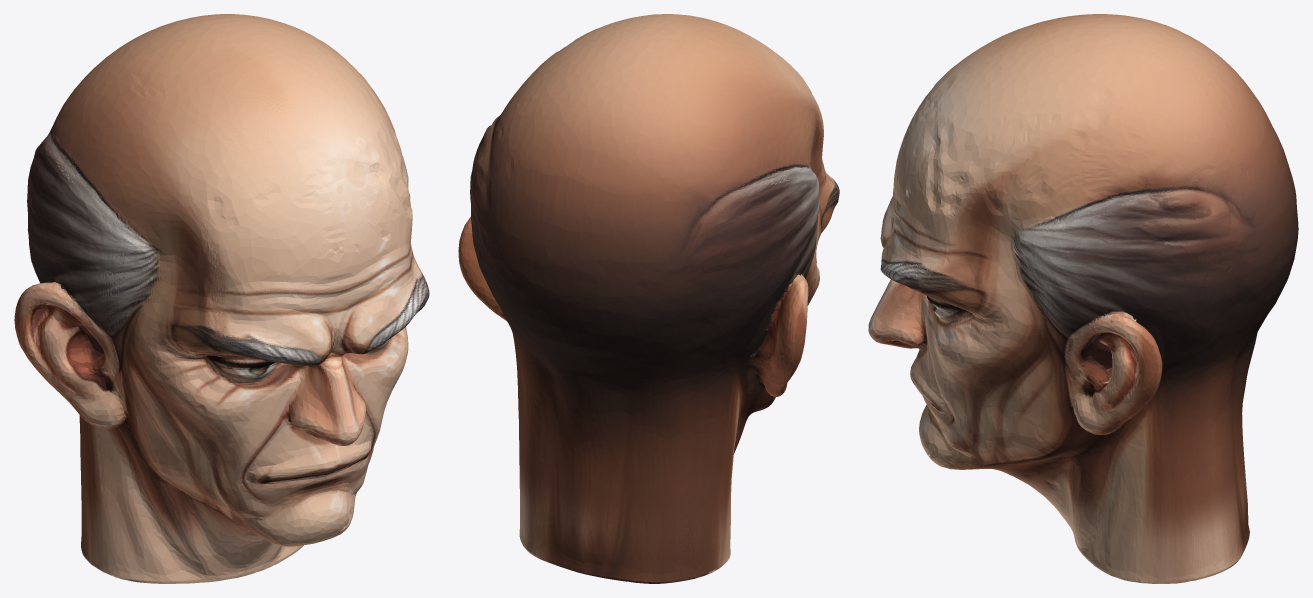
File: side_actor_c_repaired_atlas.glb
3 renders of one model, left to right at view 1: azimuth 30°, elevation 25°; view 2: azimuth 150°, elevation 25°; view 3: azimuth 270°, elevation 25°, orthographic. The views are drawn at different scales.
Parts seen in each view (by area): view 1: temp_mesh.ply; view 2: temp_mesh.ply; view 3: temp_mesh.ply.
Boxes of the visible parts, bbox=[...] form: temp_mesh.ply: bbox=[14, 14, 429, 583]; temp_mesh.ply: bbox=[458, 14, 839, 583]; temp_mesh.ply: bbox=[868, 14, 1298, 583].
Bounding box in the file's own units: 0.8918 × 1.22 × 0.933.
Materials: 1 (1 with a texture image).
